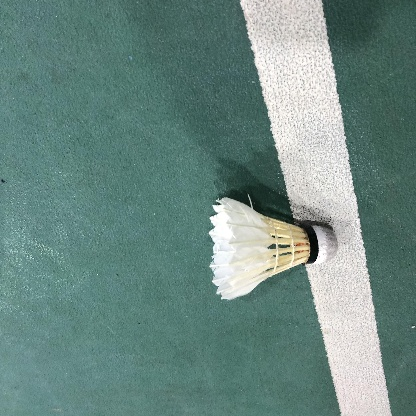ball_single: (209, 197, 338, 300)
